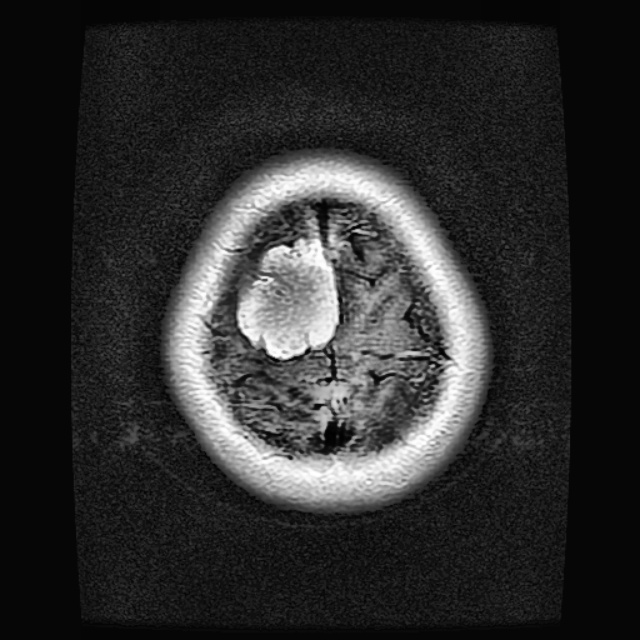Pituitary: (237, 237, 339, 359)
